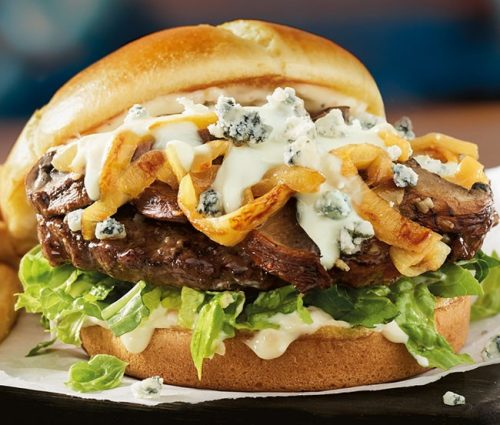hamburger_buns: (23, 18, 407, 188)
